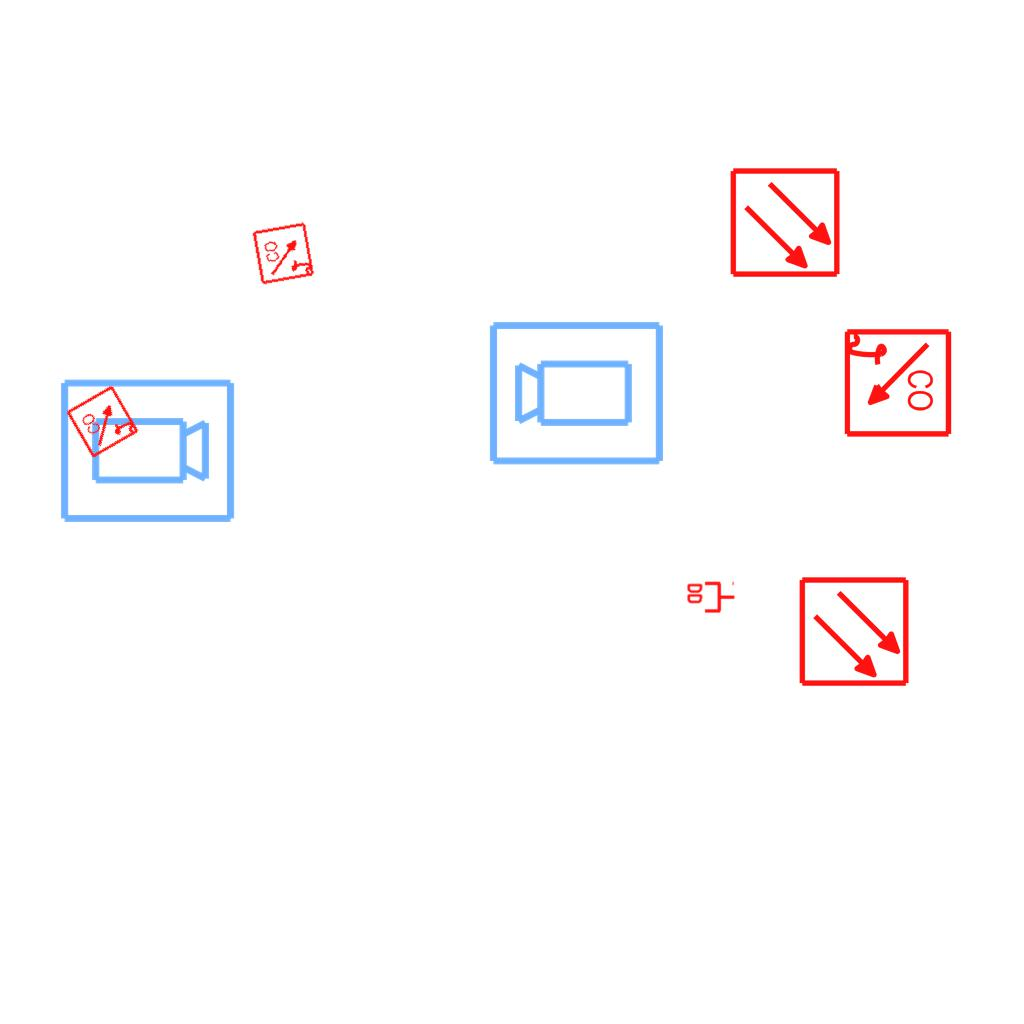Datenanschluss_zweifach: (685, 581, 736, 615)
KFO_Kamera_mit_Festobjektiv: (486, 315, 668, 469), (56, 375, 238, 529)
RMO_Rauchmelder_optischer: (798, 575, 911, 688), (729, 166, 842, 279)
ROA_Rauchmelder_optisch_mit_Signalgeber_(Sockelsirene): (840, 327, 953, 440), (64, 382, 142, 460), (251, 220, 317, 286)
